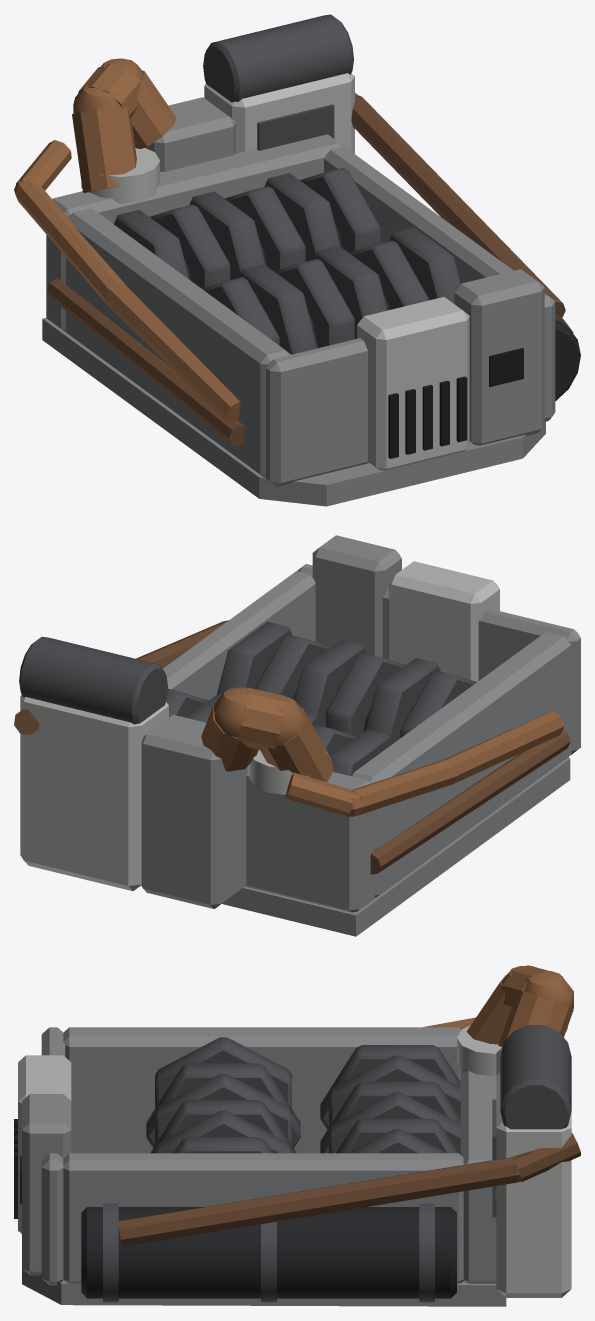
File: crusher.glb
3 views of the same model, one above another, from view 1: azimuth 30°, elevation 25°; view 2: azimuth 150°, elevation 25°; view 3: azimuth 270°, elevation 25° (orthographic).
Visible parts, largest first — view 1: body, anim_roll_crusher_n, anim_roll_crusher_s; view 2: body, anim_roll_crusher_s, anim_roll_crusher_n; view 3: body, anim_roll_crusher_s, anim_roll_crusher_n.
Boxes of the visible parts, box(x1,y1,x2,y2) form: body: box(14, 14, 580, 506); anim_roll_crusher_n: box(114, 168, 380, 288); anim_roll_crusher_s: box(202, 227, 460, 354); body: box(14, 535, 580, 936); anim_roll_crusher_s: box(217, 621, 476, 743); anim_roll_crusher_n: box(166, 689, 392, 775); body: box(14, 965, 580, 1306); anim_roll_crusher_s: box(146, 1037, 300, 1153); anim_roll_crusher_n: box(320, 1045, 460, 1154).
Bounding box in the file's own units: 2.07 × 1.35 × 2.87.
